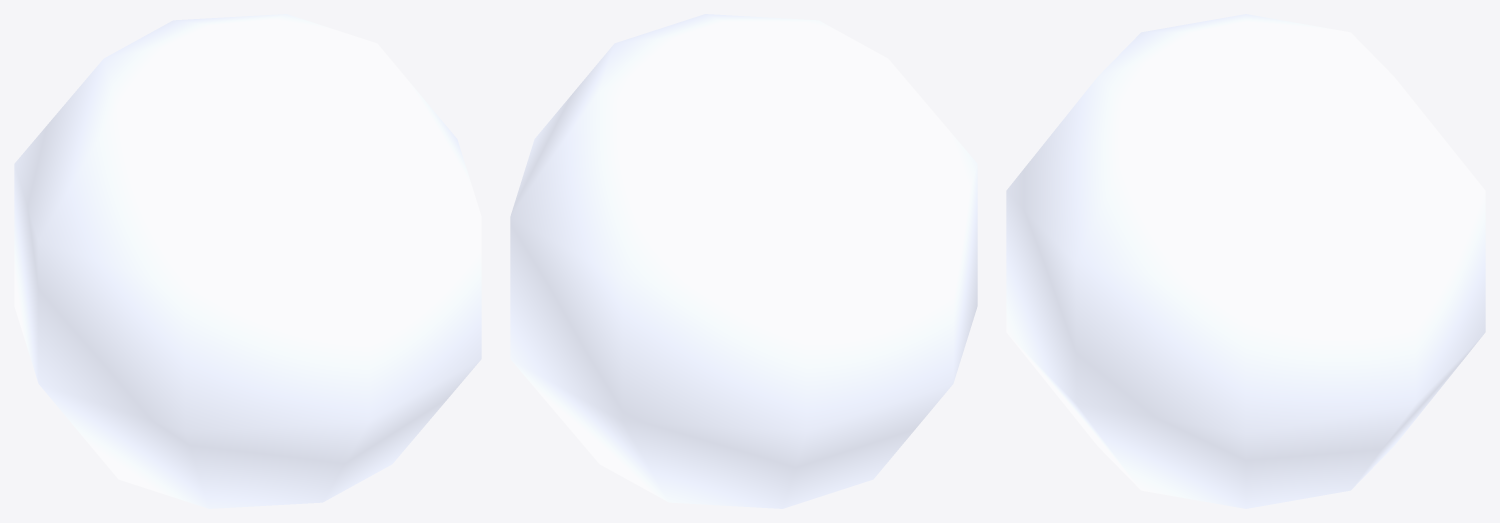
Rendered from ignore-alt-col.glb.
3 renders of one model, left to right at view 1: azimuth 30°, elevation 25°; view 2: azimuth 150°, elevation 25°; view 3: azimuth 270°, elevation 25°, orthographic.
Parts seen in each view (by area): view 1: ignore-alt-col; view 2: ignore-alt-col; view 3: ignore-alt-col.
Part boxes in pixels (<box>): ignore-alt-col: <box>14,14,481,508</box>; ignore-alt-col: <box>510,14,977,508</box>; ignore-alt-col: <box>1006,14,1485,508</box>.
Bounding box in the file's own units: 0.3804 × 0.4 × 0.3804.
